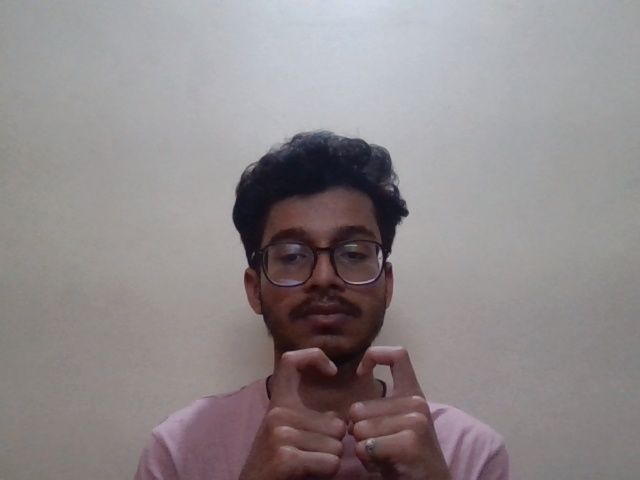who: (265, 332, 433, 451)
